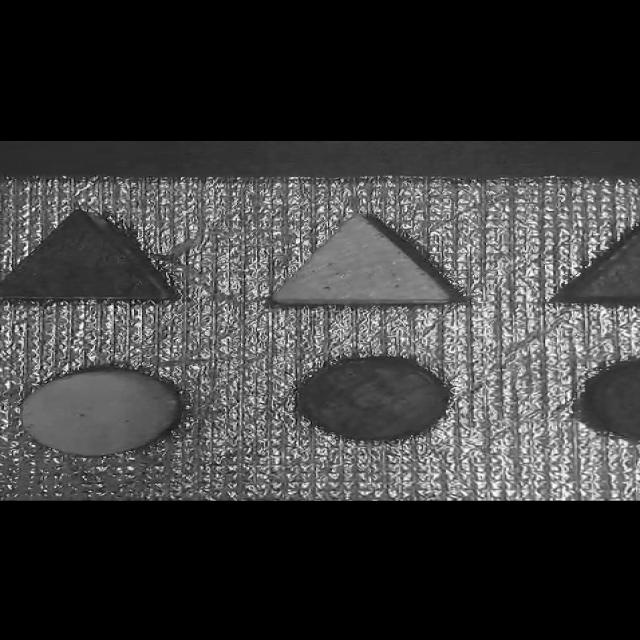btriangle: (5, 196, 184, 314)
rcircle: (282, 352, 458, 444)
ycircle: (16, 363, 192, 457)
ytriangle: (259, 203, 456, 315)
